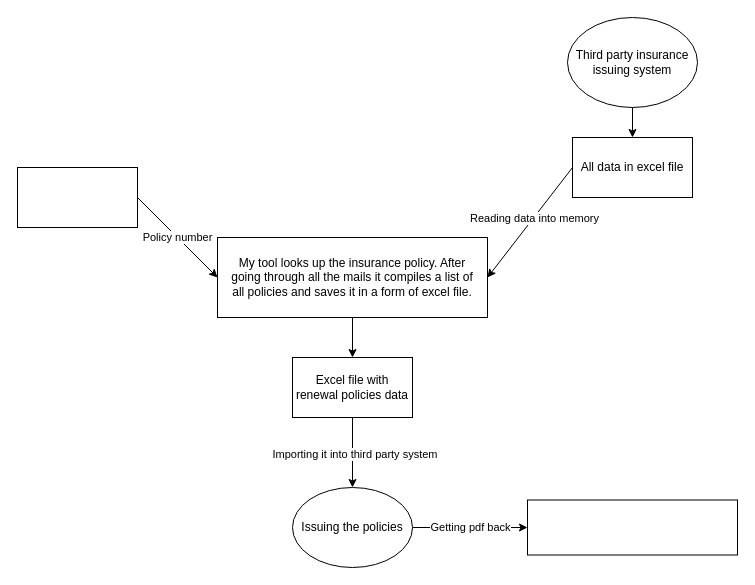
Image size: 755x585. Some labels were removed from this diagram. The shapes that lost their labels are listed below. From the top down, each one's centre as x and y in pixels, then its label:
At point 77,197: "Clients mail".
At point 632,527: "Automatically spliting, encrypting pdf's and creating mails with policies.".
